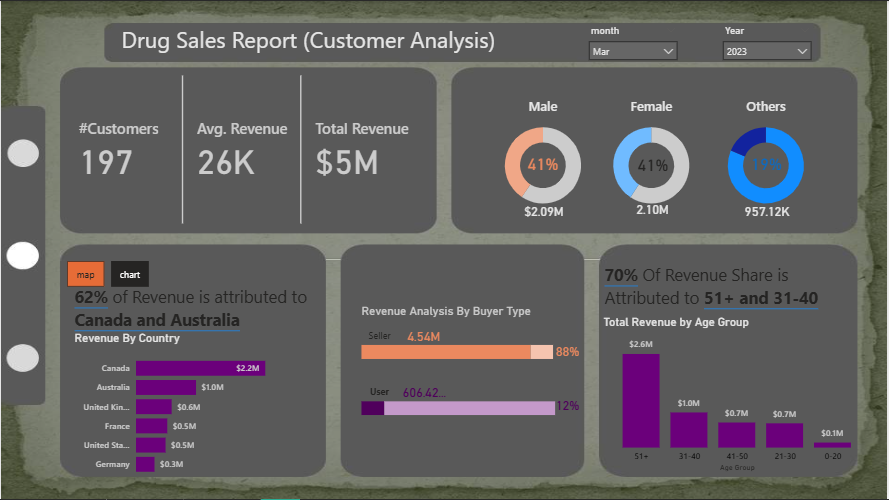

This screenshot's page, from the dashboard's own definition file:
{"tool":"powerbi","page":{"name":"Page 2","canvas":[1280,720],"ordinal":1},"visuals":[{"type":"cardVisual","fields":{"Data":["Calculations.#Customers","Calculations.Avg. Revenue","Calculations.Total Revenue"]},"box":[95.4,102.7,517.6,224.1],"z":0},{"type":"clusteredBarChart","title":"Revenue By Country","fields":{"Y":["Calculations.Total Revenue"],"Category":["CustomerTable.Country"]},"box":[101.2,477.6,323,220.3],"z":1000,"group":"g1"},{"type":"donutChart","title":"Female","fields":{"Y":["Calculations.R:Female","Calculations.% Female Revenue"]},"box":[846.9,138.4,186,172.7],"z":1000},{"type":"slicer","fields":{"Values":["Calender.month"]},"box":[840.7,30.6,147.8,62.2],"z":2000},{"type":"card","fields":{"Values":["Calculations.% Other Revenue"]},"box":[1050.8,195,111.6,80.4],"z":3000},{"type":"slicer","fields":{"Values":["Calender.Year"]},"box":[1033.8,30.6,147.8,62.2],"z":4000},{"type":"card","fields":{"Values":["Calculations.% Male Revenue"]},"box":[699.5,180.1,168.2,108.7],"z":5000},{"type":"card","fields":{"Values":["Calculations.Female Revenue"]},"box":[904.2,288.2,76.4,29.4],"z":6000},{"type":"card","fields":{"Values":["Calculations.% Female Revenue"]},"box":[885.6,180.1,113.1,110.1],"z":7000},{"type":"card","fields":{"Values":["Calculations.Other Revenue"]},"box":[1066.5,290.2,80.8,27.9],"z":8000},{"type":"donutChart","title":"Others","fields":{"Y":["Calculations.R:Other","Calculations.% Other Revenue"]},"box":[1010.6,138.4,190.5,172.7],"z":9000},{"type":"card","fields":{"Values":["Calculations.Male Revenue"]},"box":[742.7,288.7,83.3,32.7],"z":10000},{"type":"donutChart","title":"Male","fields":{"Y":["Calculations.R:Male","Calculations.% Male Revenue"]},"box":[687.6,138.4,190.5,172.7],"z":11000},{"type":"clusteredColumnChart","fields":{"Y":["Calculations.Total Revenue"],"Category":["CustomerTable.Age Group"]},"box":[866.2,454,397.4,230.7],"z":12000},{"type":"barChart","fields":{"Y":["Calculations.% User","Calculations.R: User"]},"box":[516.5,538.8,290.2,92.3],"z":13000},{"type":"barChart","title":"Revenue Analysis By  Buyer Type","fields":{"Y":["Calculations.% Seller","Calculations.R: Seller"]},"box":[516.5,437.6,287.3,113.1],"z":14000},{"type":"card","fields":{"Values":["Calculations.% User"]},"box":[794.8,573,47.6,26.8],"z":15000},{"type":"card","fields":{"Values":["Calculations.% Seller"]},"box":[793.3,489.7,50.6,34.2],"z":16000},{"type":"card","fields":{"Values":["Calculations.User Revenue"]},"box":[576,550.7,72.9,32.7],"z":17000},{"type":"card","fields":{"Values":["Calculations.Seller Revenue"]},"box":[577.5,470.3,68.5,32.7],"z":18000},{"type":"textbox","box":[518,470.3,59.5,38.7],"z":19000},{"type":"textbox","box":[518,550.7,59.5,40.2],"z":20000},{"type":"group","id":"g1","title":"Country chat","box":[101.2,477.6,329.4,220.3],"z":21000},{"type":"bookmarkNavigator","box":[95.3,376.6,119.1,37.2],"z":22000},{"type":"textbox","box":[867.5,374.5,347,76.6],"z":24000},{"type":"textbox","box":[101.2,406.3,347,81],"z":25000},{"type":"textbox","box":[169.2,27.5,613,53.5],"z":25001}]}

Visuals, with their boxes in screenshot pixels (x1, y1, x2, y2), scaled from the page's 1280x720 canvas onto the 889x500 screenshot:
cardVisual - Calculations.#Customers x Calculations.Avg. Revenue: (66,71,426,227)
"Revenue By Country" clusteredBarChart: (70,332,295,485)
"Female" donutChart: (588,96,717,216)
slicer - Calender.month: (584,21,687,64)
card - Calculations.% Other Revenue: (730,135,807,191)
slicer - Calender.Year: (718,21,821,64)
card - Calculations.% Male Revenue: (486,125,603,201)
card - Calculations.Female Revenue: (628,200,681,221)
card - Calculations.% Female Revenue: (615,125,694,202)
card - Calculations.Other Revenue: (741,202,797,221)
"Others" donutChart: (702,96,834,216)
card - Calculations.Male Revenue: (516,200,574,223)
"Male" donutChart: (478,96,610,216)
clusteredColumnChart - Calculations.Total Revenue x CustomerTable.Age Group: (602,315,878,475)
barChart - Calculations.% User x Calculations.R: User: (359,374,560,438)
"Revenue Analysis By  Buyer Type" barChart: (359,304,558,382)
card - Calculations.% User: (552,398,585,417)
card - Calculations.% Seller: (551,340,586,364)
card - Calculations.User Revenue: (400,382,451,405)
card - Calculations.Seller Revenue: (401,327,449,349)
textbox: (360,327,401,353)
textbox: (360,382,401,410)
"Country chat" group: (70,332,299,485)
bookmarkNavigator: (66,262,149,287)
textbox: (603,260,844,313)
textbox: (70,282,311,338)
textbox: (118,19,543,56)
